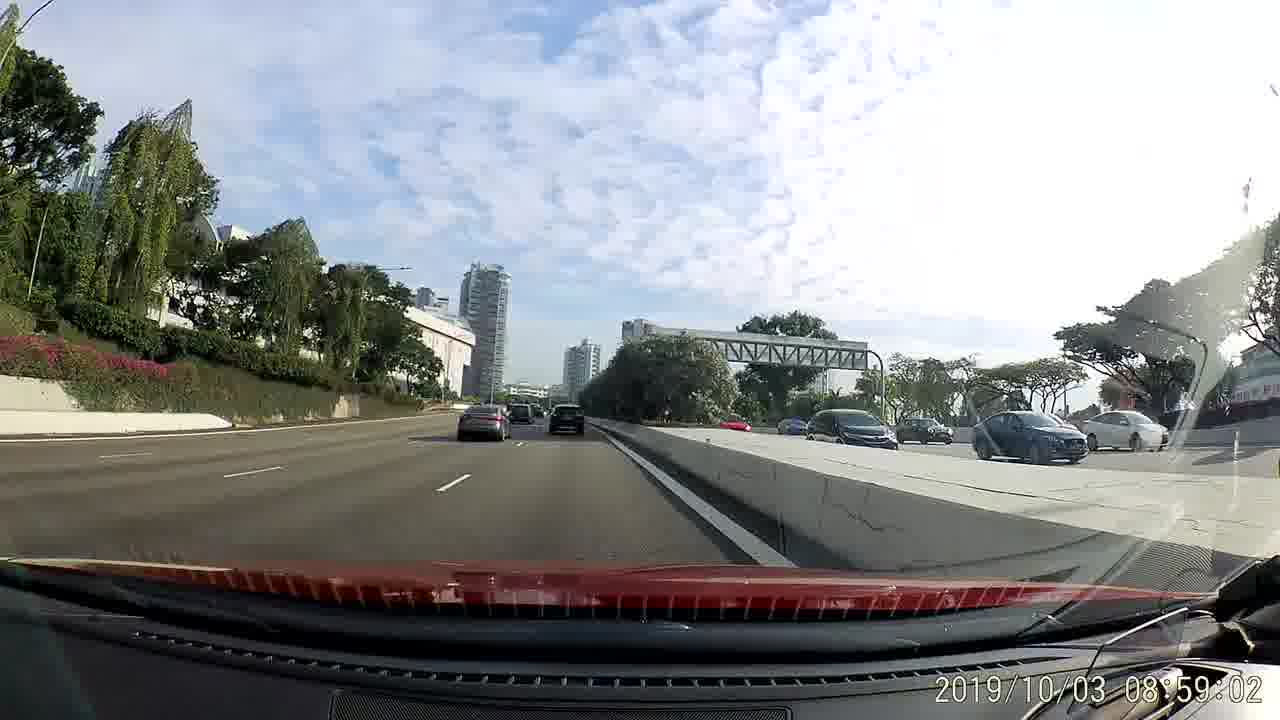car: (969, 406, 1089, 464), (806, 406, 900, 450), (1082, 410, 1173, 452), (459, 404, 512, 440), (895, 415, 954, 445), (547, 401, 587, 438), (503, 401, 533, 426), (715, 411, 752, 430), (776, 416, 810, 434)
